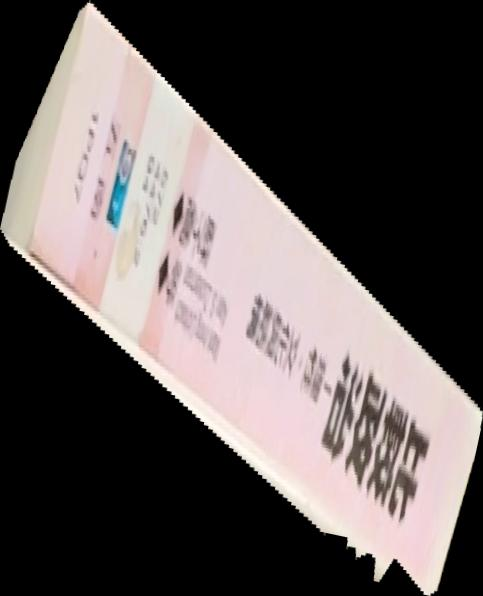flat: (1, 1, 483, 596)
